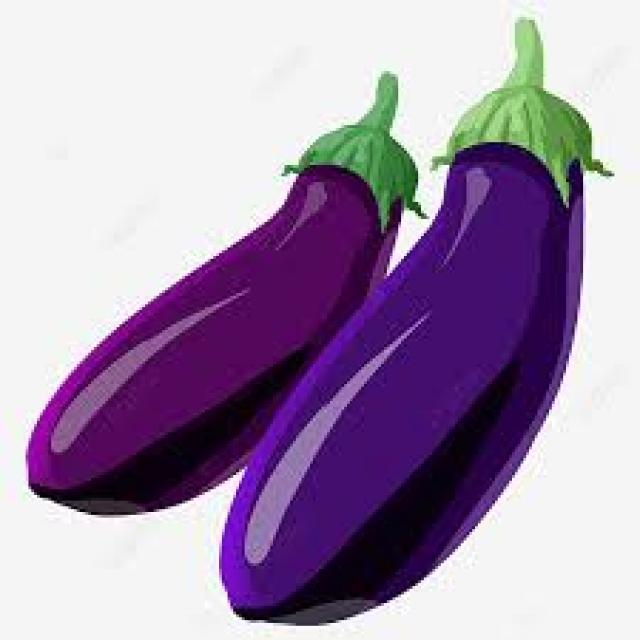eggplant: (222, 20, 597, 624), (28, 74, 424, 515)
